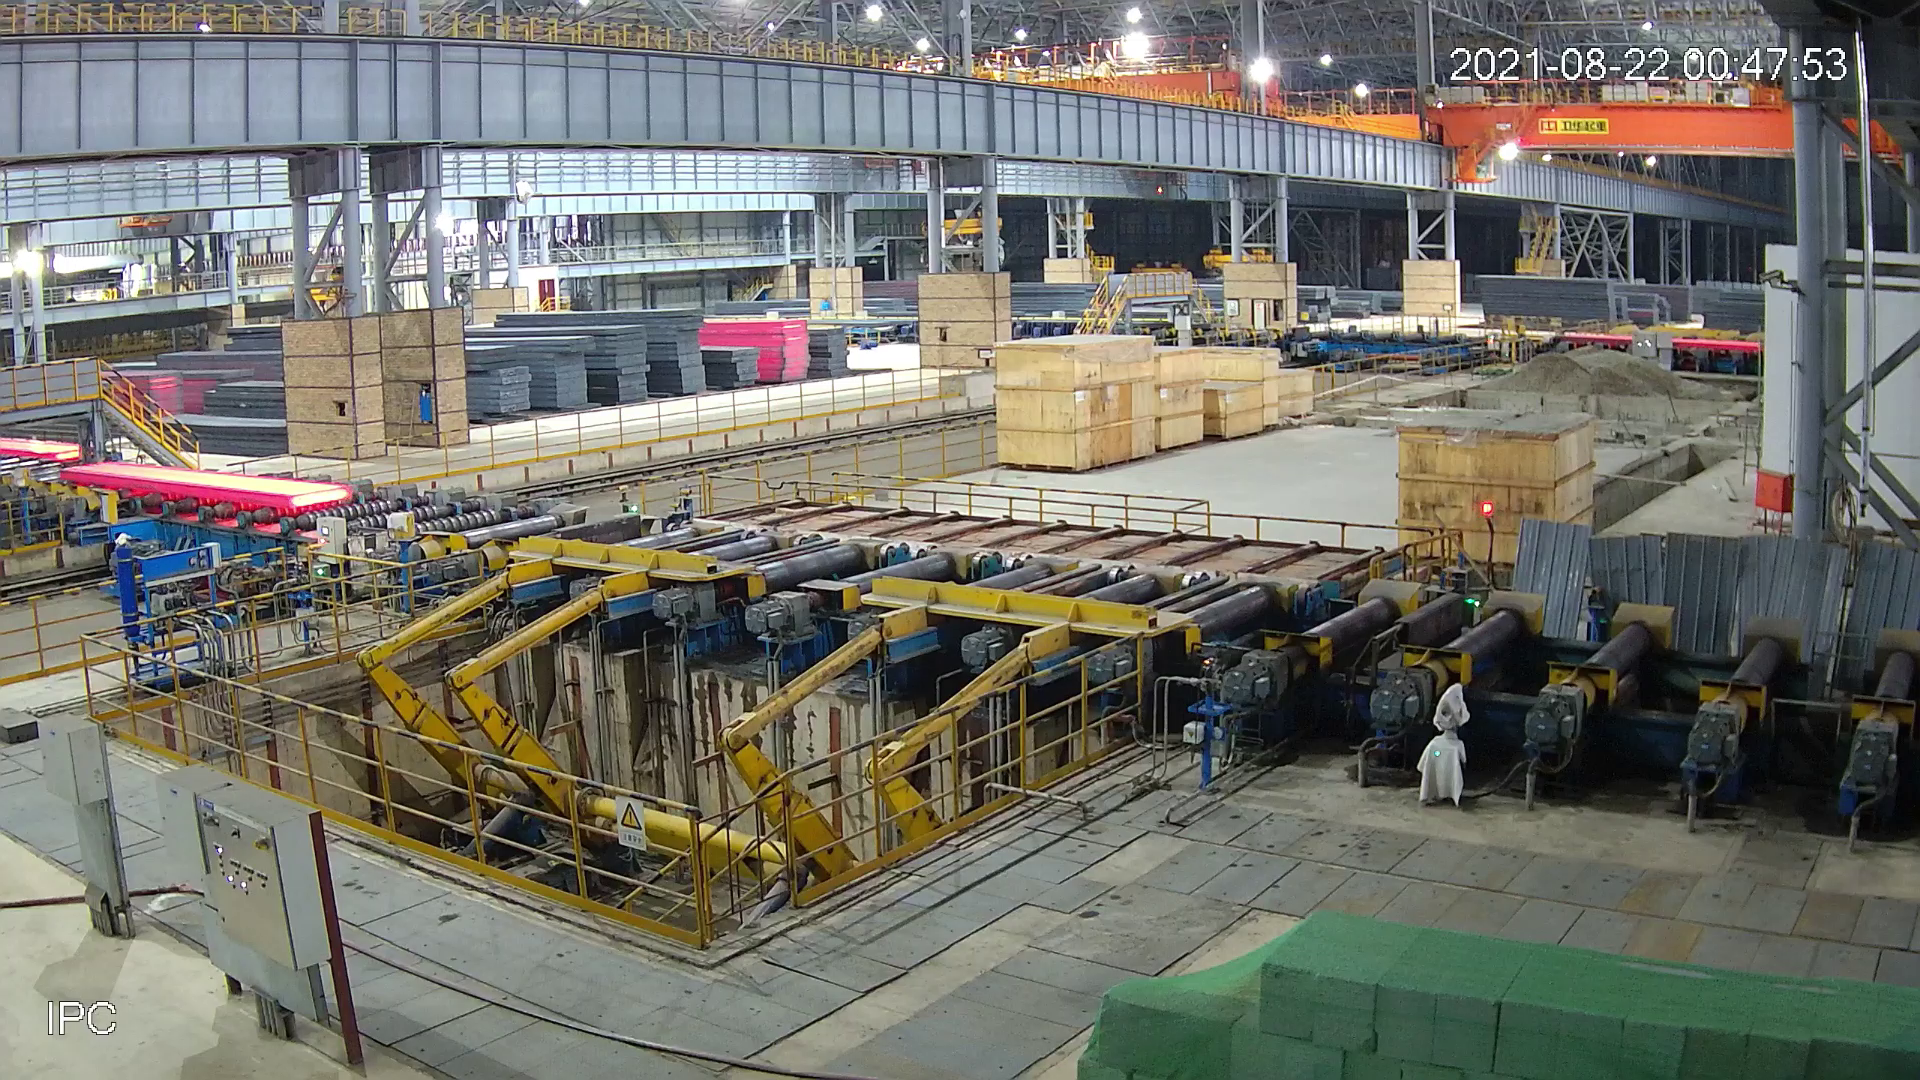slab: (59, 456, 352, 516)
